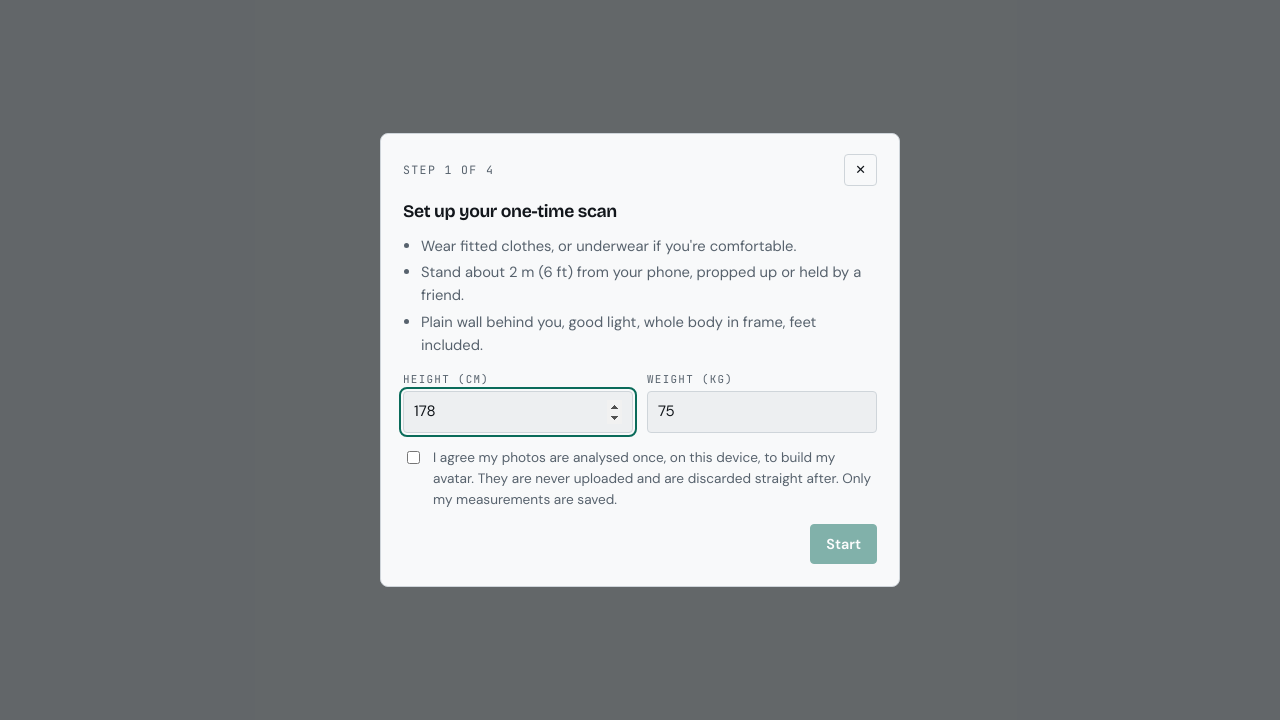
Test: ScanModal setup step › can start once consent is given and the numbers are sensible
Click the checkbox at (414, 457), box [407,451,420,464]
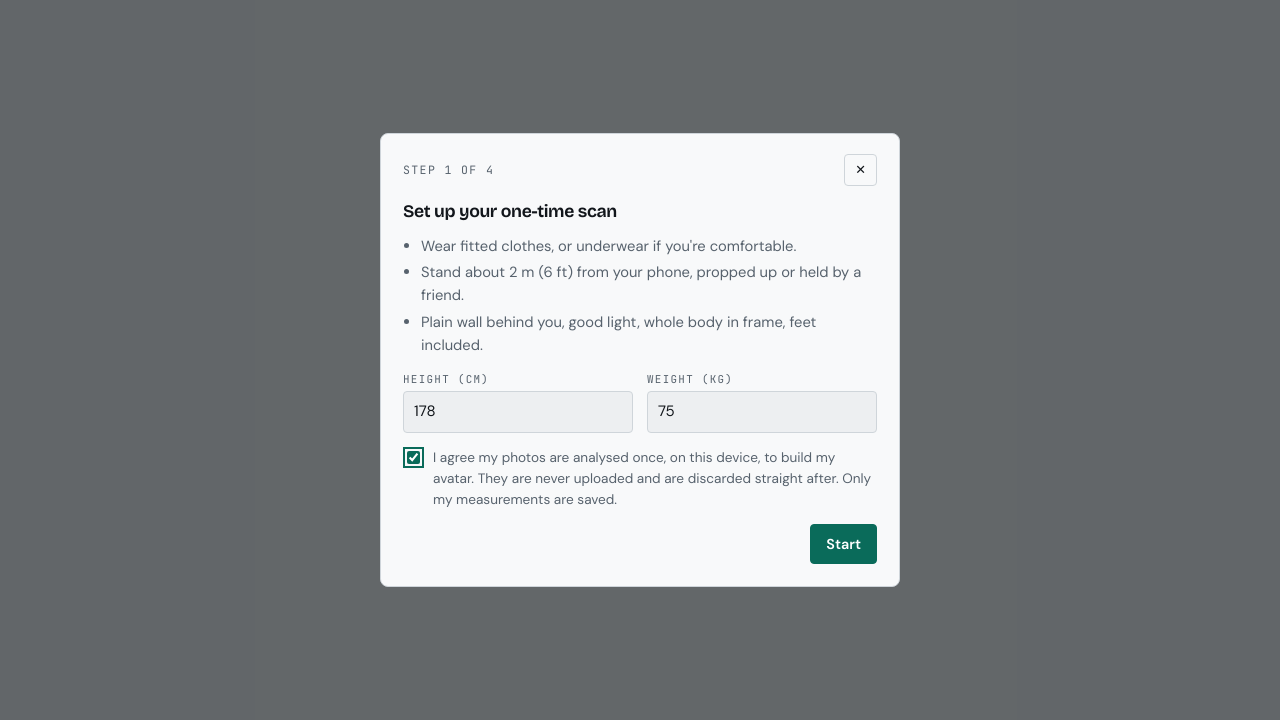
Now the button "Start" is enabled, box [810,524,877,564]
